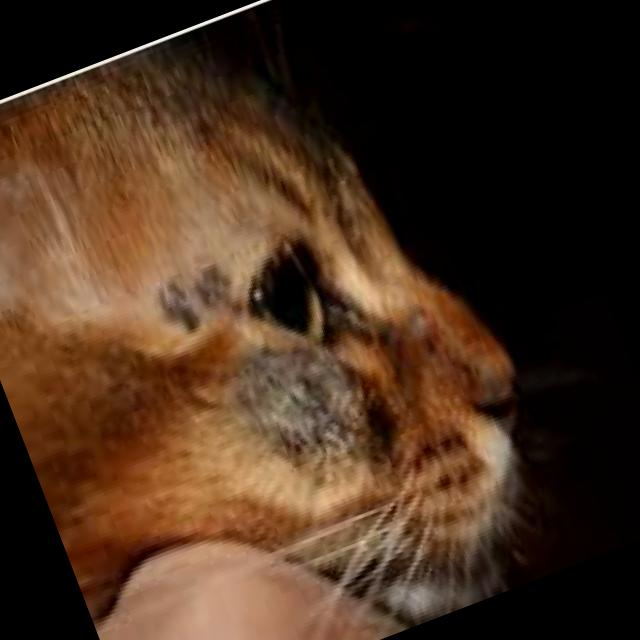cat-ringworm: (230, 336, 345, 466), (156, 258, 244, 342), (408, 309, 444, 351)
